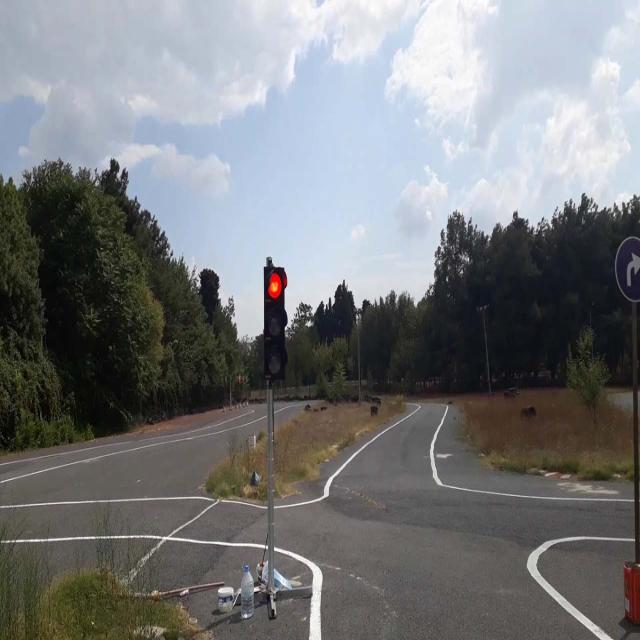kirmizi: (263, 264, 286, 379)
sag: (615, 237, 640, 300)
